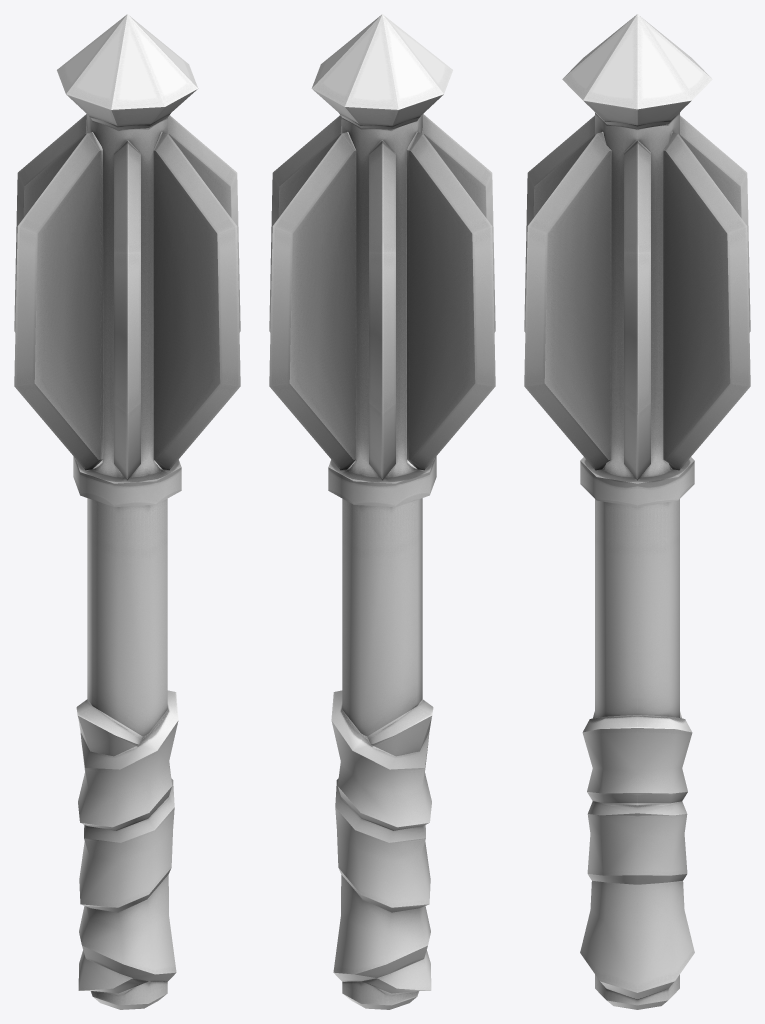
3 renders of one model, left to right at view 1: azimuth 30°, elevation 25°; view 2: azimuth 150°, elevation 25°; view 3: azimuth 270°, elevation 25°, orthographic.
Visible parts, largest first — view 1: 008_a_light_mace; view 2: 008_a_light_mace; view 3: 008_a_light_mace.
Part boxes in pixels (x1,y1,x2,y2): 008_a_light_mace: (14, 14, 240, 1009); 008_a_light_mace: (269, 14, 495, 1009); 008_a_light_mace: (524, 14, 750, 1009).
Size of the model in its own units: 14.51 by 60.17 by 12.57.
